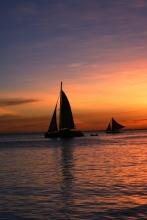fanchuan: (41, 83, 88, 137), (104, 113, 132, 135)
